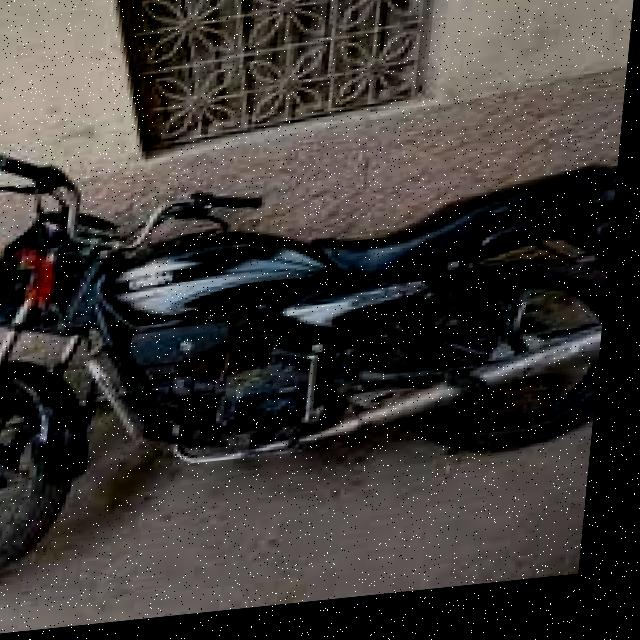bike: (0, 124, 627, 587)
